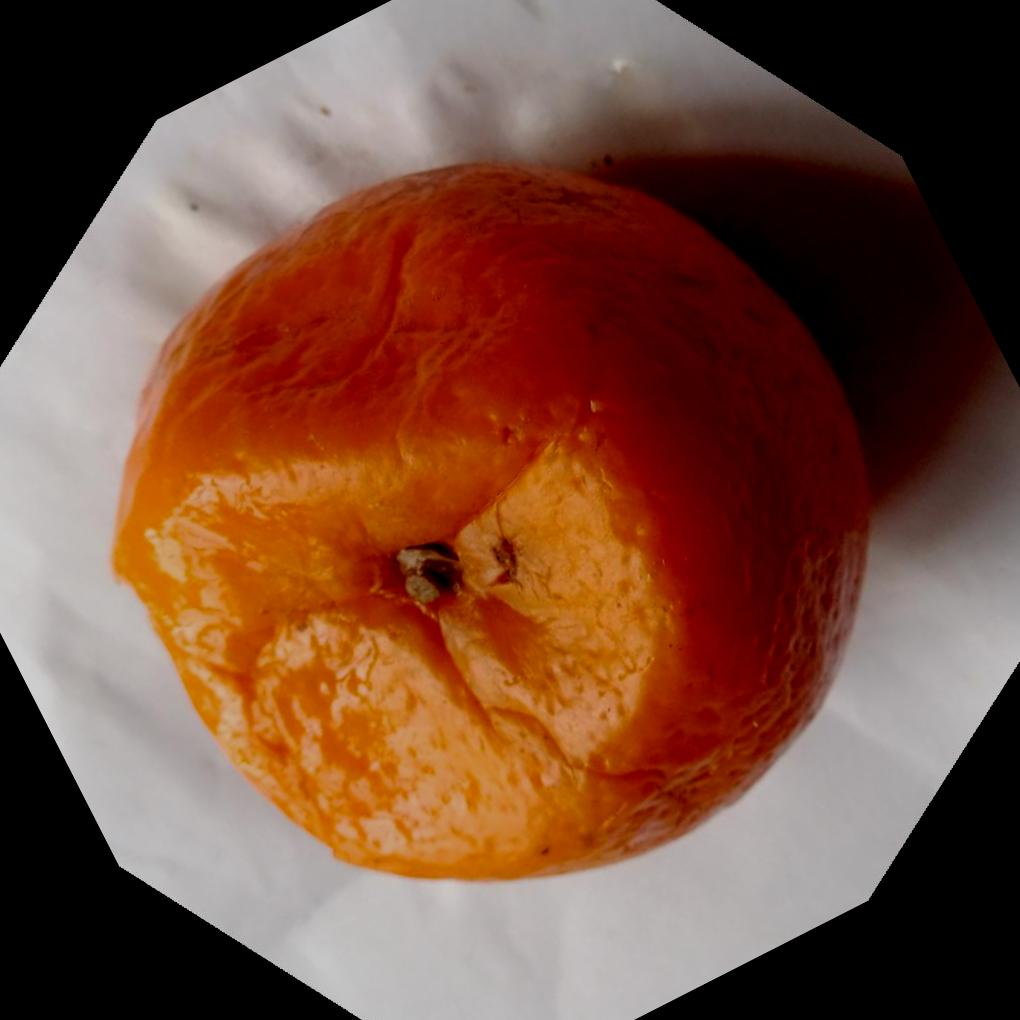FreshOrange: (111, 156, 879, 883)
